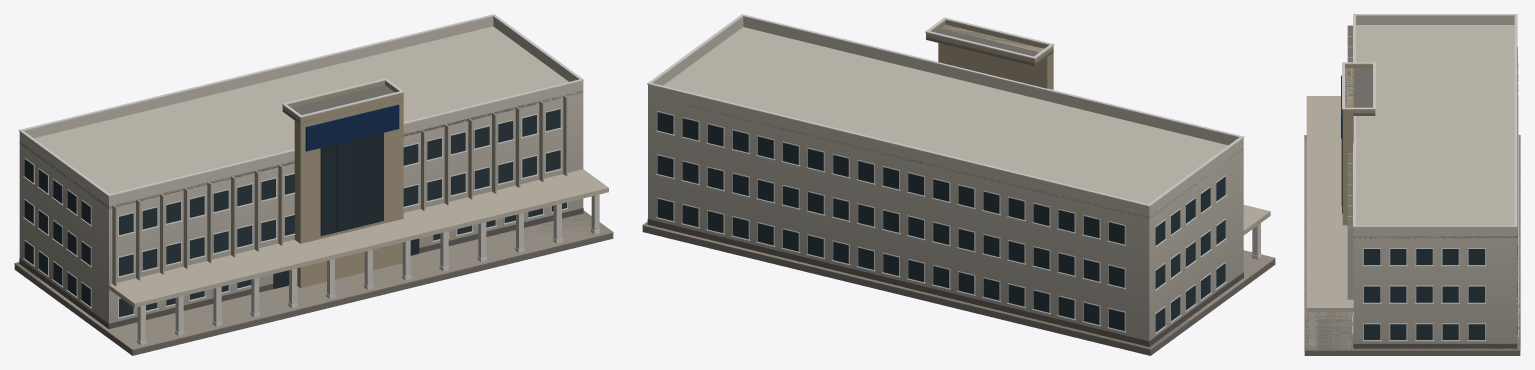
Rendered from ns_uni.glb.
3 views of the same model, side by side, from view 1: azimuth 30°, elevation 25°; view 2: azimuth 150°, elevation 25°; view 3: azimuth 270°, elevation 25° (orthographic). The views are drawn at different scales.
Visible parts, largest first — view 1: ns_uni; view 2: ns_uni; view 3: ns_uni.
Boxes of the visible parts, <box> form: ns_uni: <box>14,14,613,355</box>; ns_uni: <box>642,14,1275,355</box>; ns_uni: <box>1304,14,1520,355</box>.
Bounding box in the file's own units: 46.66 × 16.48 × 19.86.
